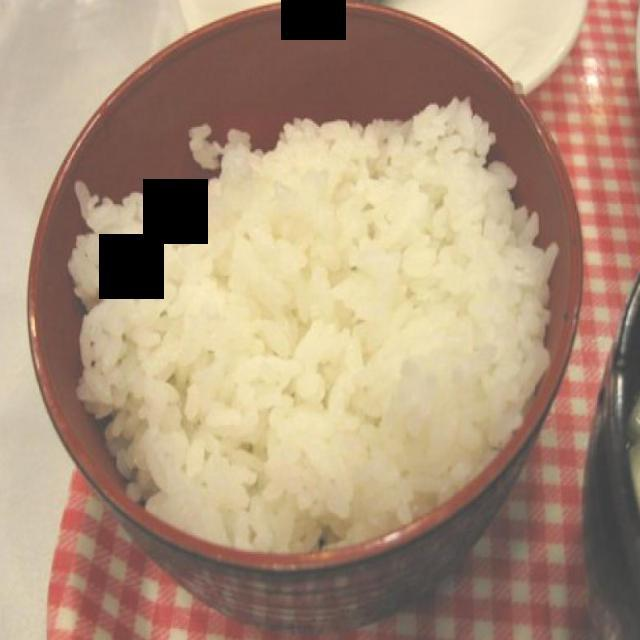rice: (69, 97, 559, 551)
